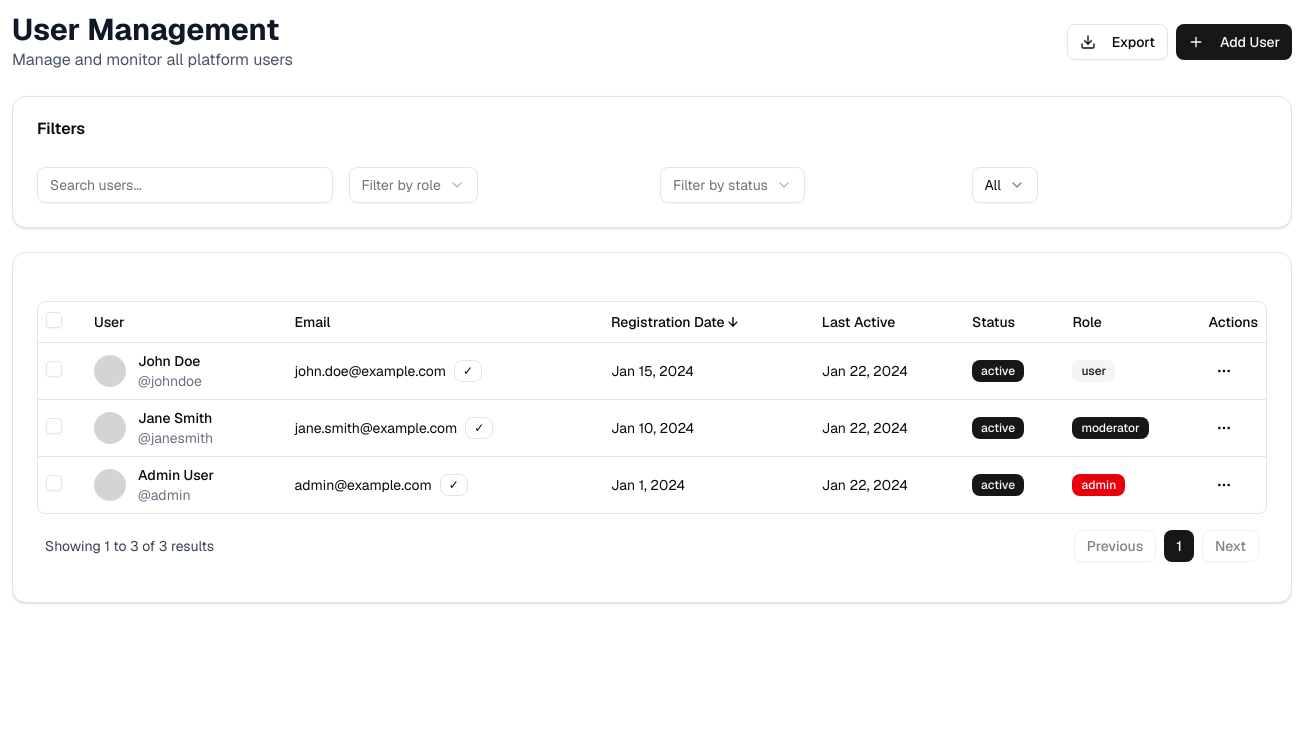
Scenario: UsersPage › shows create user form when "Add User" is clicked
This screenshot has width=1304, height=732.
Click the button "Add User".
click(1234, 42)  # box [1176,24,1292,60]
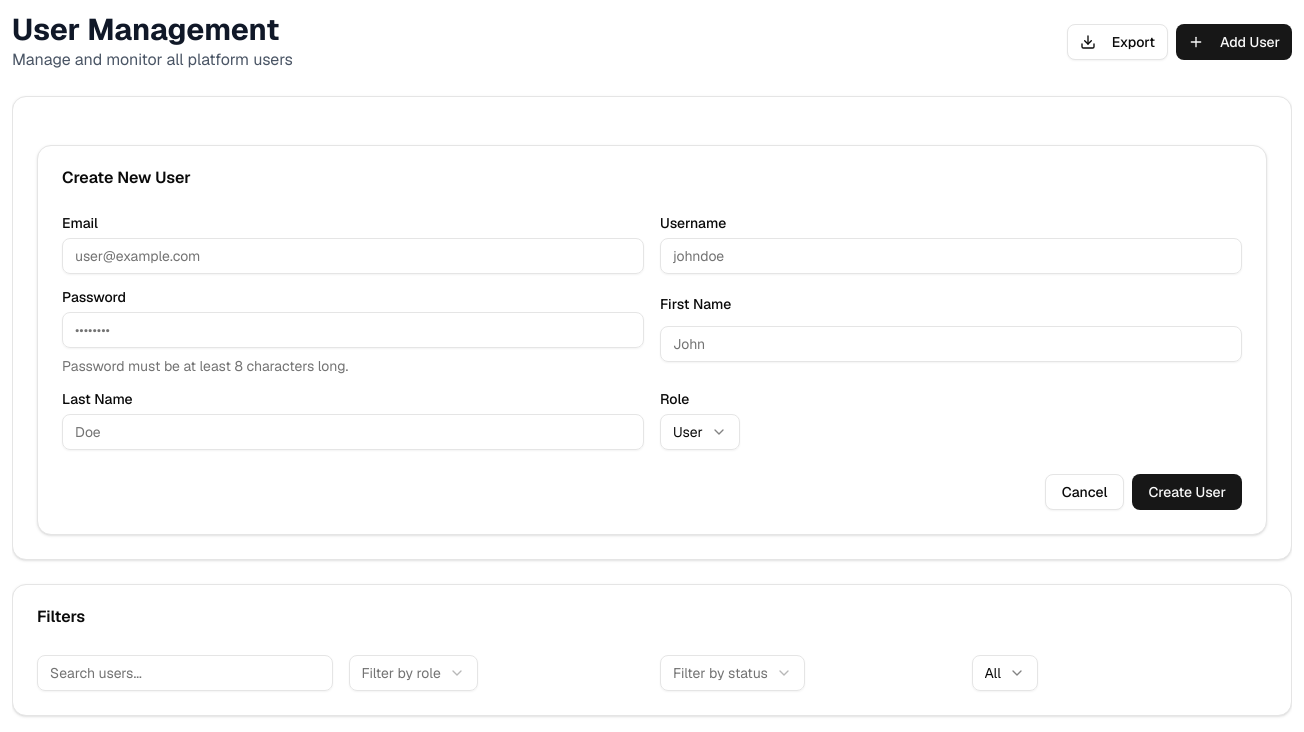
Result: the text "Create New User" is shown at [62,167,191,188]
